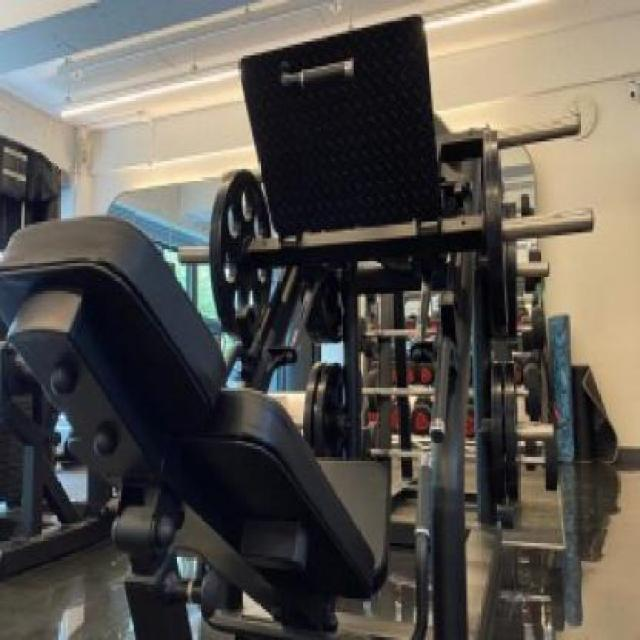leg press: (0, 0, 608, 640)
